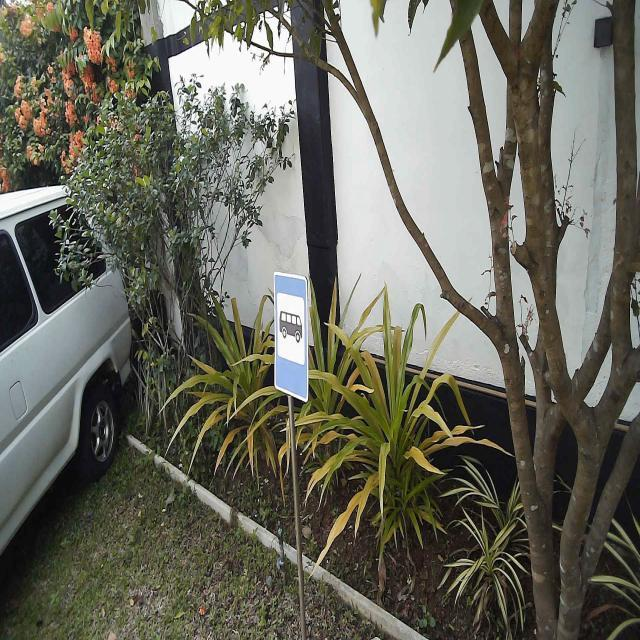bus_stop: (272, 270, 311, 404)
